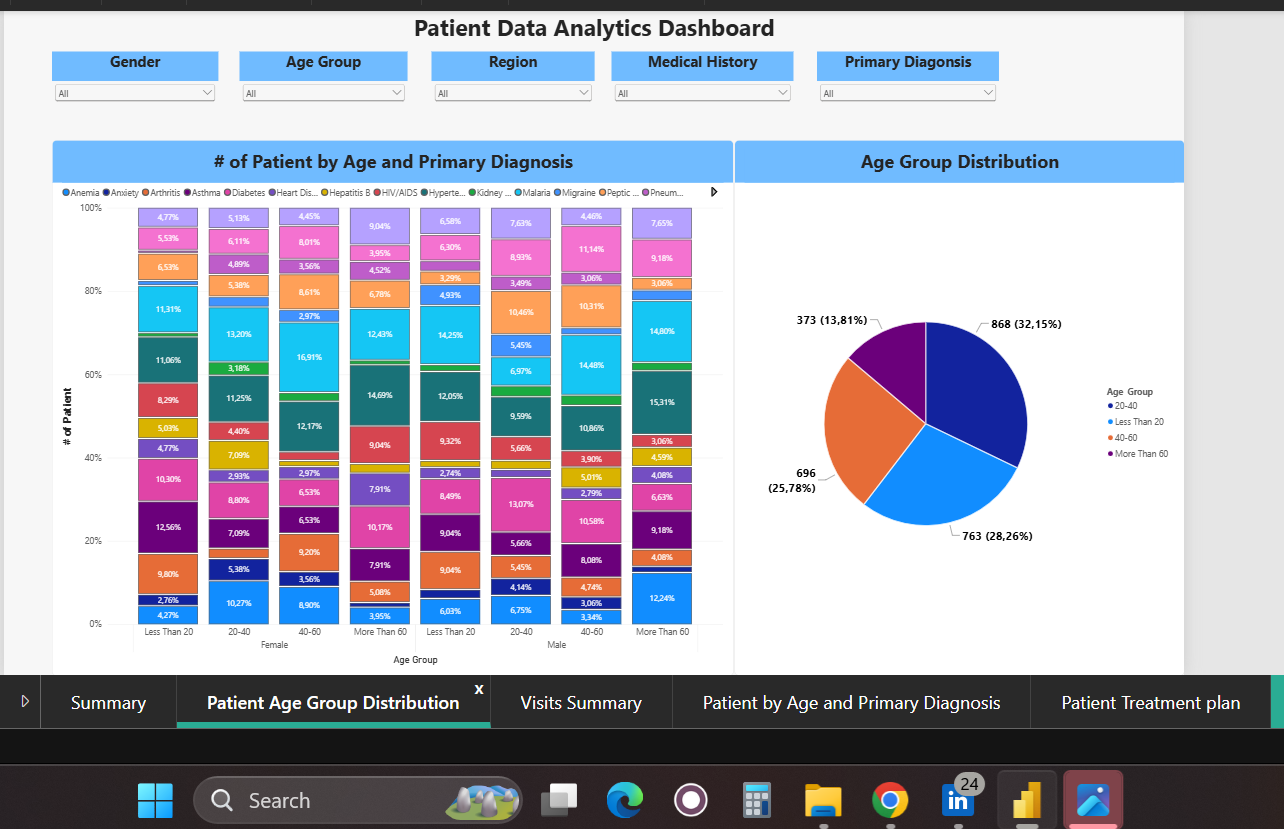

Layout of this report page (visuals, bound fields, positions):
{"tool":"powerbi","page":{"name":"Patient Age Group Distribution","canvas":[1920,1080],"ordinal":1},"visuals":[{"type":"hundredPercentStackedColumnChart","title":"# of Patient  by Age and Primary Diagnosis","fields":{"Category":["Patient Data.Gender","Age Group Sorting.Age  Group"],"Series":["Patient Data.Primary Diagnosis"],"Y":["CountNonNull(Patient Data.Patient ID)"]},"box":[79,209.6,1108.9,871.9],"z":0},{"type":"textbox","box":[0,0,1920.1,87.8],"z":1000},{"type":"slicer","title":"Medical History","fields":{"Values":["Patient Data.Medical Histpory"]},"box":[1280.9,65.9,296.2,122.6],"z":2000},{"type":"slicer","title":"Region","fields":{"Values":["Patient Data.Region"]},"box":[997.9,65.9,265.5,122.6],"z":4000},{"type":"slicer","title":"Age Group","fields":{"Values":["Age Group Sorting.Age  Group"]},"box":[707.5,65.9,273.4,121.5],"z":5000},{"type":"slicer","title":"Primary Diagonsis","fields":{"Values":["Patient Data.Primary Diagnosis"]},"box":[1603,65.9,296.2,122.6],"z":6000},{"type":"slicer","title":"Gender","fields":{"Values":["Patient Data.Gender"]},"box":[407.4,65.9,270.4,121.5],"z":7000},{"type":"pieChart","title":"Age Group Distribution","fields":{"Category":["Age Group Sorting.Age  Group"],"Y":["CountNonNull(Patient Data.Patient ID)"]},"box":[1188.2,209.8,731.9,871],"z":8000},{"type":"image","box":[34.2,0,112.2,112.2],"z":8001}]}

Visuals, with their boxes on the page's 1920x1080 design canvas (x1, y1, x2, y2). These are canvas units, not pixel positions in the 1284x829 screenshot, which may show the page scaled, cropped or inside an application window:
"# of Patient  by Age and Primary Diagnosis" hundredPercentStackedColumnChart: 79, 210, 1188, 1082
textbox: 0, 0, 1920, 88
"Medical History" slicer: 1281, 66, 1577, 188
"Region" slicer: 998, 66, 1263, 188
"Age Group" slicer: 708, 66, 981, 187
"Primary Diagonsis" slicer: 1603, 66, 1899, 188
"Gender" slicer: 407, 66, 678, 187
"Age Group Distribution" pieChart: 1188, 210, 1920, 1081
image: 34, 0, 146, 112
